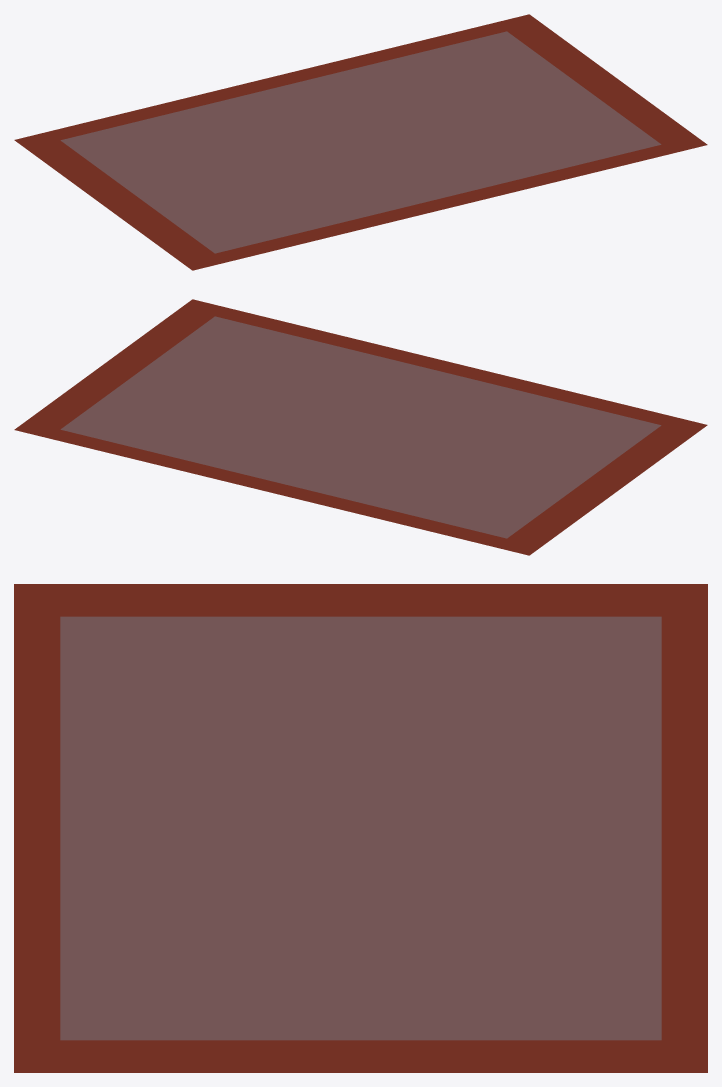
Rendered from Carpet.fbx.
The picture shows the model from 3 angles, top to bottom: view 1: azimuth 30°, elevation 25°; view 2: azimuth 150°, elevation 25°; view 3: azimuth 270°, elevation 25°; orthographic projection. The views are drawn at different scales.
Parts seen in each view (by area): view 1: pPlane4; view 2: pPlane4; view 3: pPlane4.
Boxes of the visible parts, box(x1,y1,x2,y2) form: pPlane4: box(14, 14, 707, 270); pPlane4: box(14, 299, 707, 555); pPlane4: box(14, 584, 707, 1072).
Bounding box in the file's own units: 960 × 1.28e-13 × 576.
